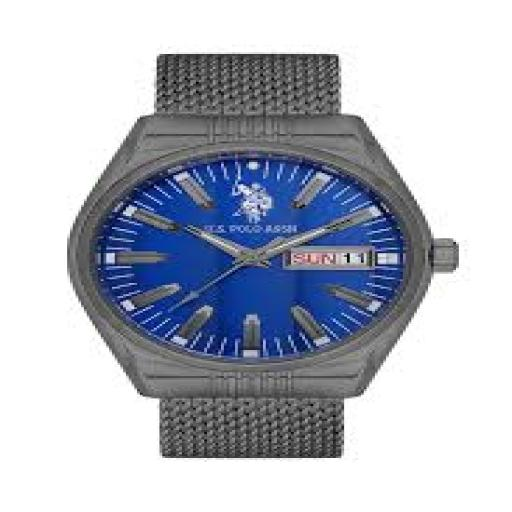KolSaati: (69, 31, 479, 465)
